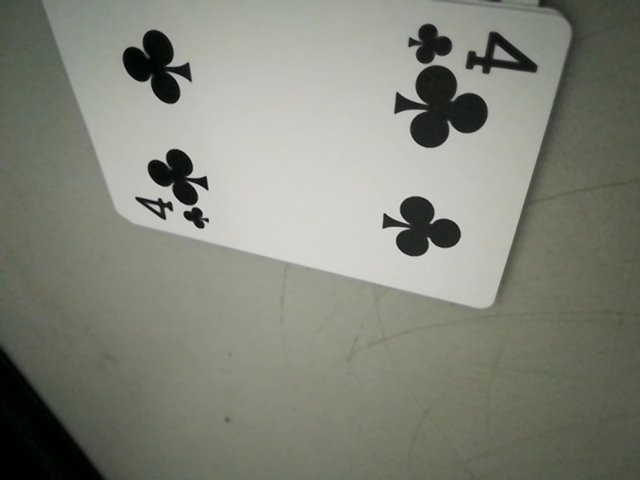mh 4: (407, 14, 539, 75), (125, 191, 214, 232)
